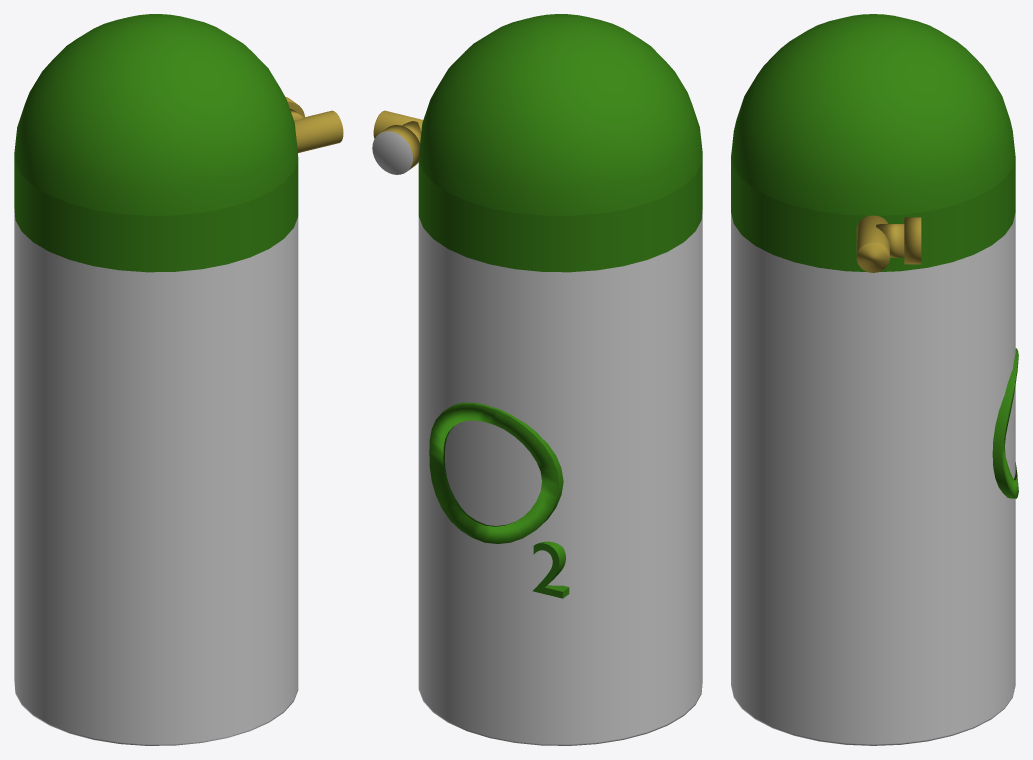
File: Oxygen tank2.fbx
3 renders of one model, left to right at view 1: azimuth 30°, elevation 25°; view 2: azimuth 150°, elevation 25°; view 3: azimuth 270°, elevation 25°, orthographic.
Parts seen in each view (by area): view 1: Cylinder.003; view 2: Cylinder.003; view 3: Cylinder.003.
Boxes of the visible parts, x1,y1,x2,y2 form: Cylinder.003: (14,14,343,745); Cylinder.003: (372,14,702,745); Cylinder.003: (731,14,1018,745).
Bounding box in the file's own units: 245 × 511 × 202.
